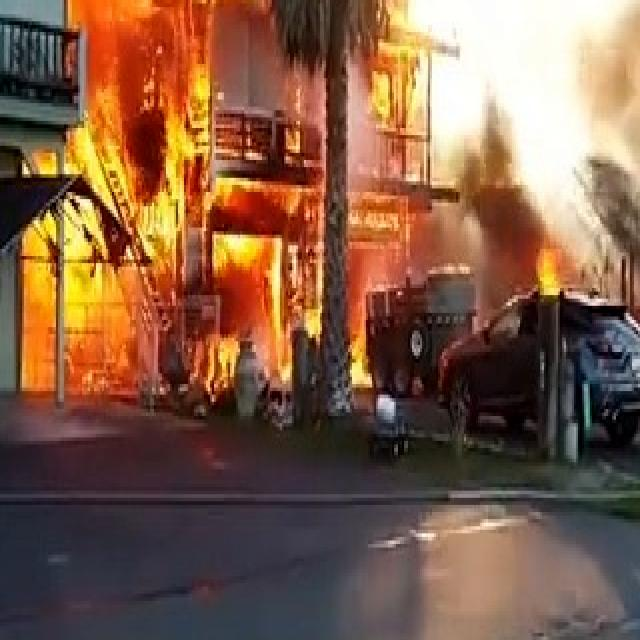fire: (49, 90, 214, 264)
